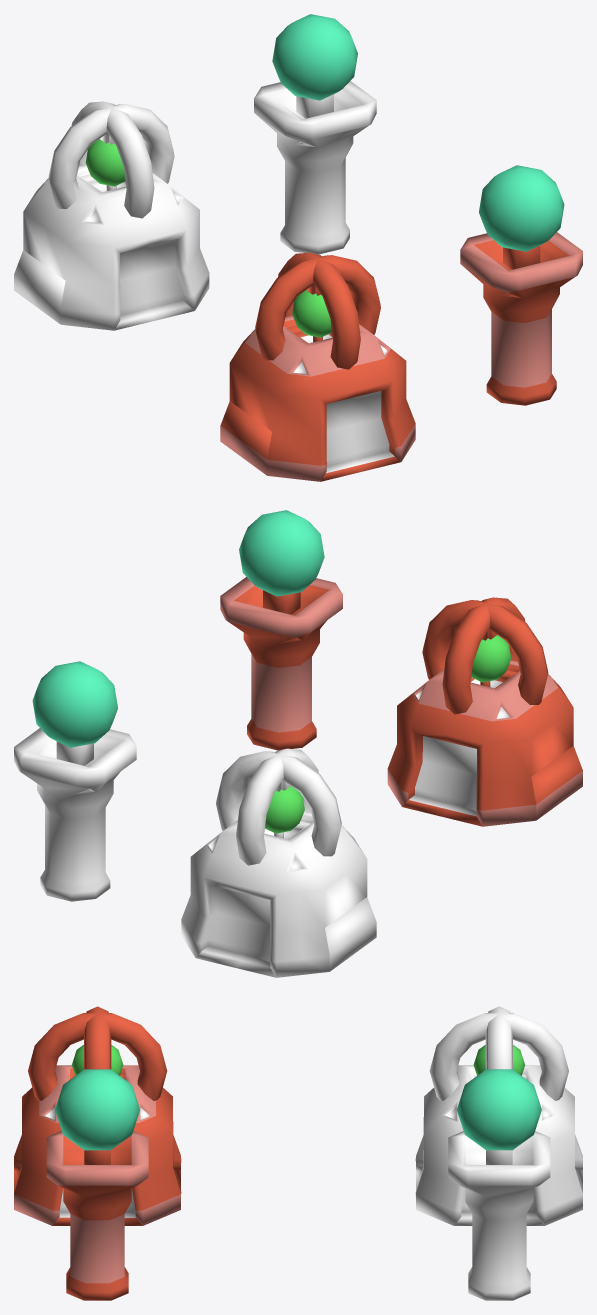
The model's file is Nexus.glb.
3 renders of one model, top to bottom at view 1: azimuth 30°, elevation 25°; view 2: azimuth 150°, elevation 25°; view 3: azimuth 270°, elevation 25°, orthographic. The views are drawn at different scales.
Parts seen in each view (by area): view 1: NexusRed, NexusBlue, TowerRed, TowerBlue; view 2: NexusBlue, NexusRed, TowerBlue, TowerRed; view 3: NexusBlue, NexusRed, TowerBlue, TowerRed.
Boxes of the visible parts, bbox=[...] form: NexusRed: bbox=[220, 252, 415, 481]; NexusBlue: bbox=[14, 101, 209, 330]; TowerRed: bbox=[460, 165, 582, 405]; TowerBlue: bbox=[254, 14, 376, 254]; NexusBlue: bbox=[181, 748, 376, 977]; NexusRed: bbox=[387, 597, 582, 826]; TowerBlue: bbox=[14, 661, 136, 901]; TowerRed: bbox=[220, 510, 342, 750]; NexusBlue: bbox=[415, 1006, 582, 1225]; NexusRed: bbox=[14, 1006, 181, 1225]; TowerBlue: bbox=[448, 1069, 550, 1300]; TowerRed: bbox=[46, 1069, 148, 1300].
Bounding box in the file's own units: 4.81 × 3.16 × 7.54.
